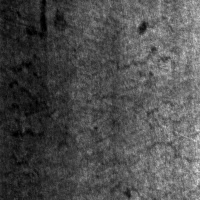crazing: (95, 43, 198, 158), (10, 52, 70, 167)
